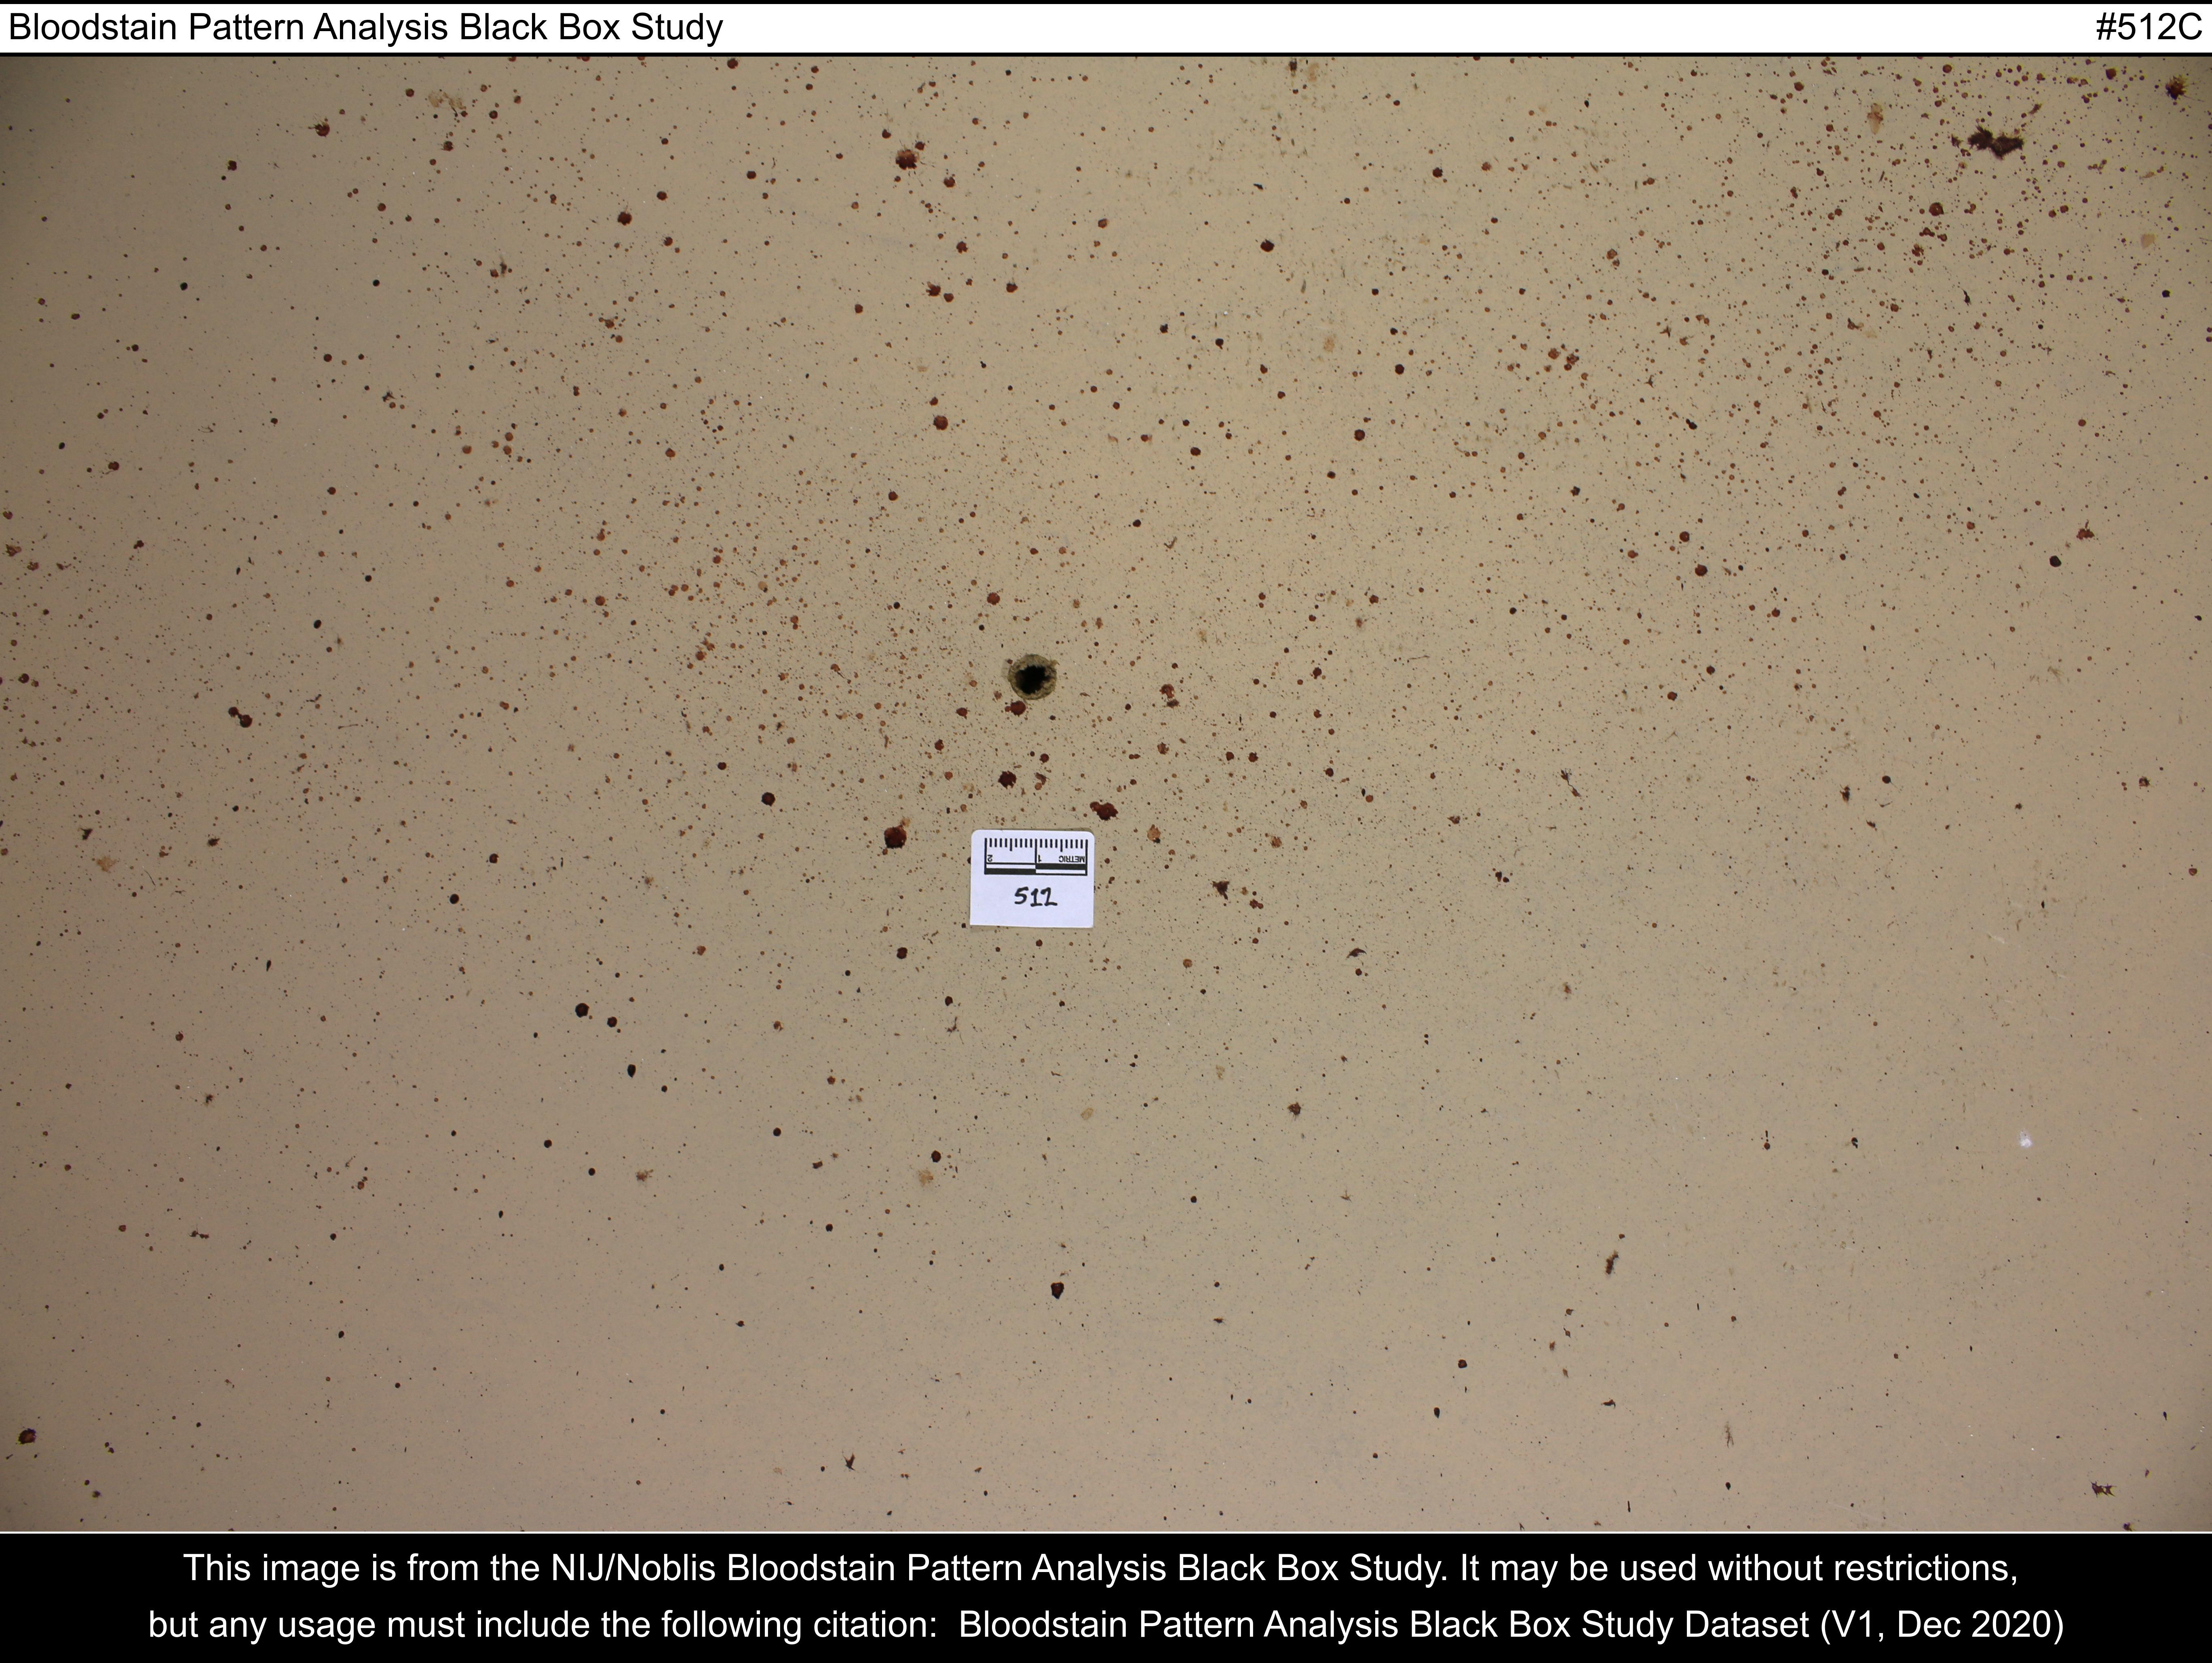Impact: (440, 356, 1603, 826)
